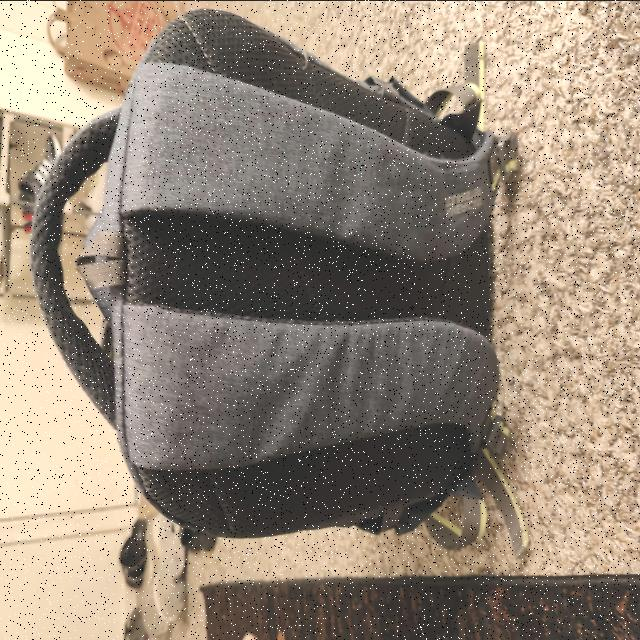bag: (38, 39, 514, 534)
